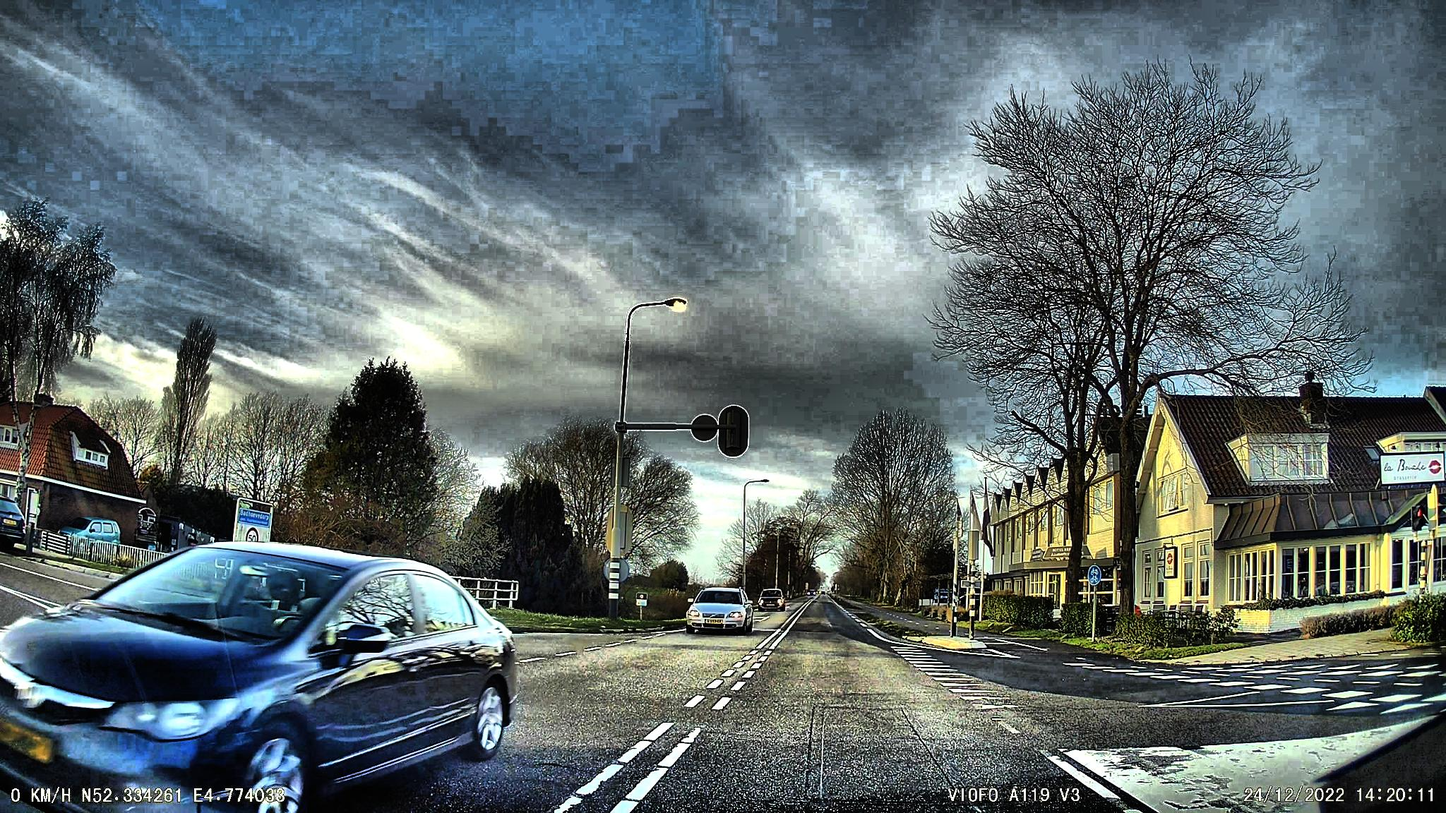Roads: (320, 606, 1446, 813)
